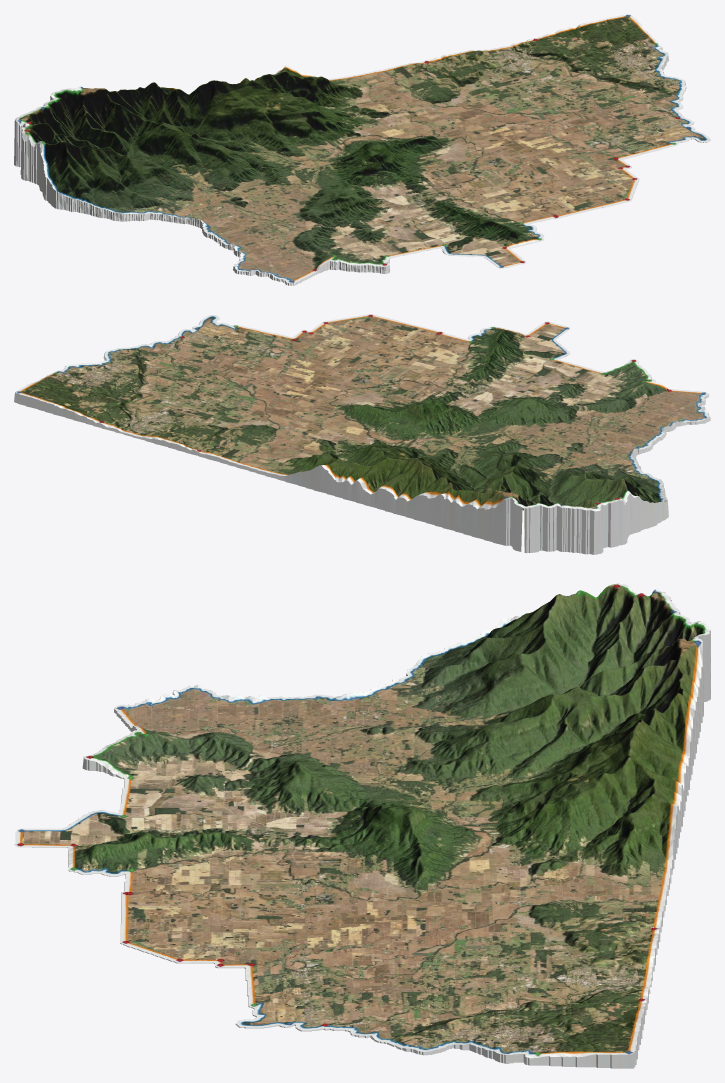
3 views of the same model, one above another, from view 1: azimuth 30°, elevation 25°; view 2: azimuth 150°, elevation 25°; view 3: azimuth 270°, elevation 25° (orthographic). The views are drawn at different scales.
Size of the model in its own units: 0.9997 by 0.0737 by 0.6908.
1 material, 1 textured.
